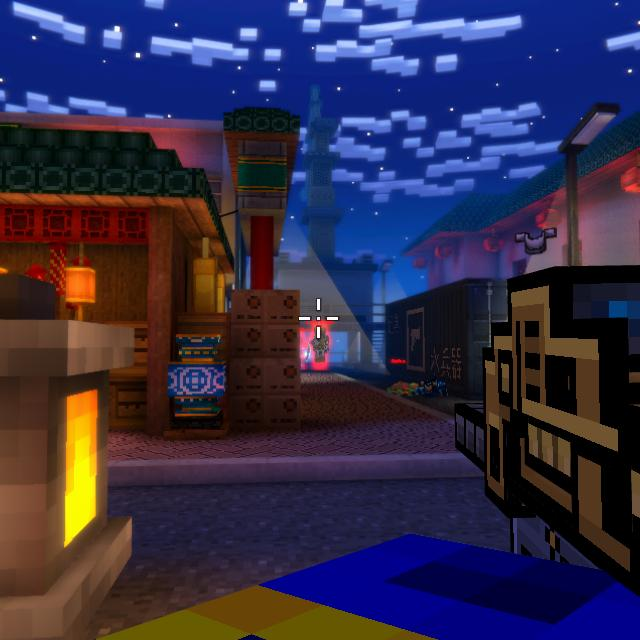Enemy: (307, 329, 329, 365)
